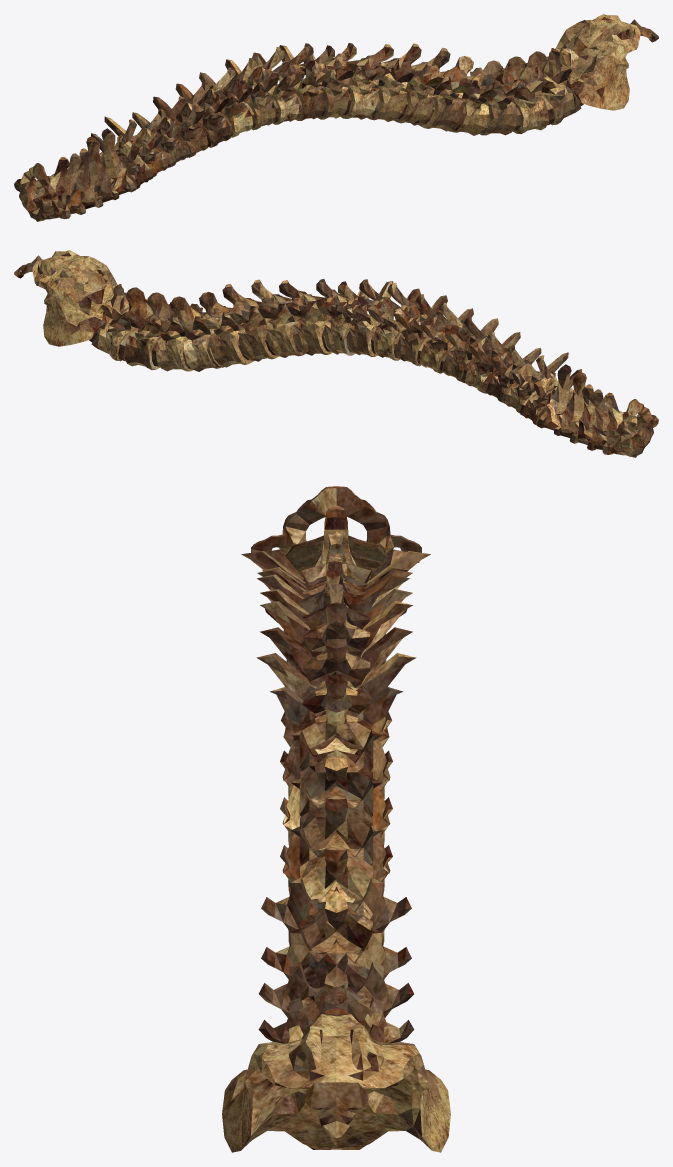
Rendered from PaletteG.obj.
The picture shows the model from 3 angles, top to bottom: view 1: azimuth 30°, elevation 25°; view 2: azimuth 150°, elevation 25°; view 3: azimuth 270°, elevation 25°; orthographic projection. The views are drawn at different scales.
Parts seen in each view (by area): view 1: atlas_atlas.000_atlas_atlas.000; view 2: atlas_atlas.000_atlas_atlas.000; view 3: atlas_atlas.000_atlas_atlas.000.
Boxes of the visible parts, <box> form: atlas_atlas.000_atlas_atlas.000: <box>14,14,658,221</box>; atlas_atlas.000_atlas_atlas.000: <box>14,250,658,457</box>; atlas_atlas.000_atlas_atlas.000: <box>222,486,450,1152</box>.
Size of the model in its own units: 72.09 by 15.49 by 11.39.
